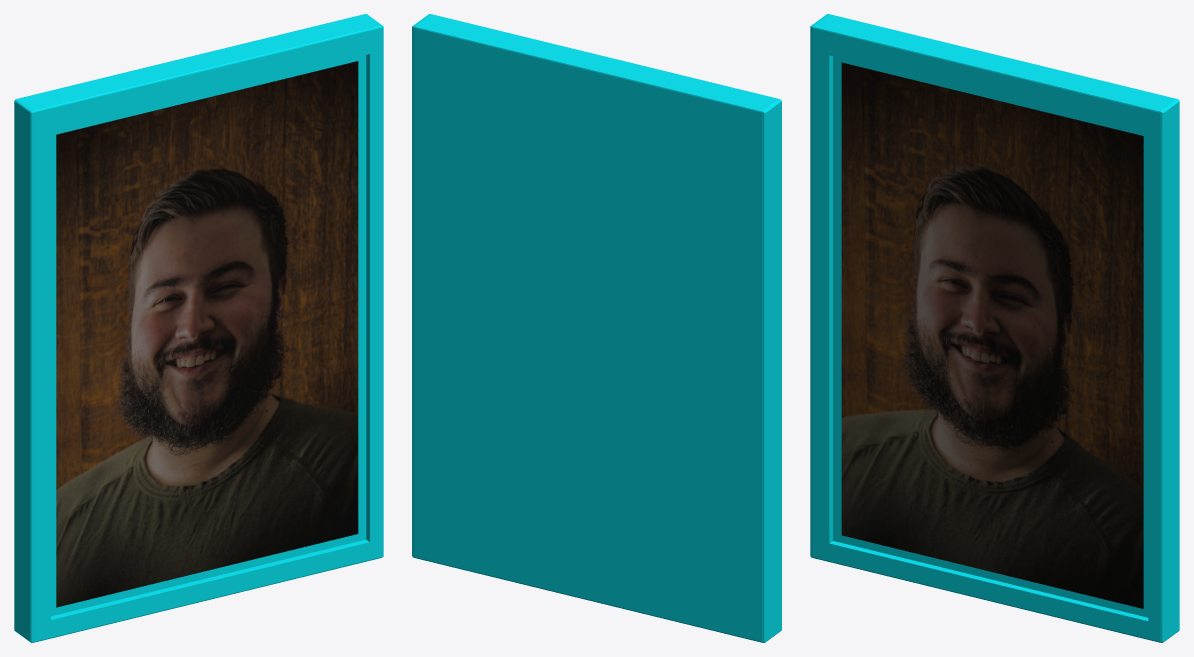
File: SM_Picture.fbx
The picture shows the model from 3 angles, left to right: view 1: azimuth 30°, elevation 25°; view 2: azimuth 150°, elevation 25°; view 3: azimuth 330°, elevation 25°; orthographic projection.
Parts seen in each view (by area): view 1: Picture Fram; view 2: Picture Fram; view 3: Picture Fram.
Boxes of the visible parts, x1,y1,x2,y2 form: Picture Fram: (14, 14, 383, 642); Picture Fram: (412, 14, 781, 642); Picture Fram: (810, 14, 1179, 642).
Bounding box in the file's own units: 24.64 × 35.44 × 2.11.
